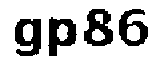6: (117, 5, 151, 51)
8: (82, 6, 115, 49)
g: (12, 13, 44, 59)
p: (45, 14, 82, 60)
